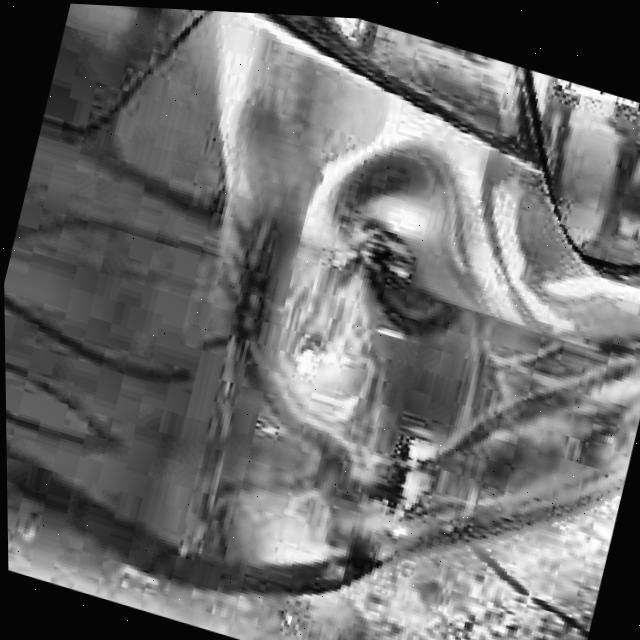bumper_dent: (252, 123, 533, 480)
